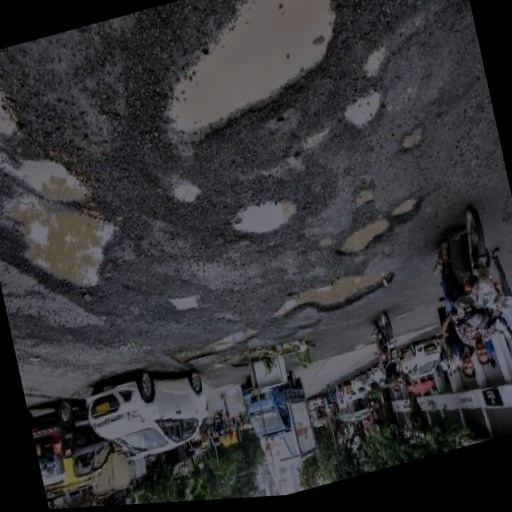pothole: (142, 0, 356, 156), (0, 138, 128, 317), (265, 261, 398, 332), (227, 190, 301, 249), (172, 324, 262, 369), (0, 47, 26, 165), (332, 216, 394, 264), (341, 88, 388, 136), (357, 45, 394, 83), (387, 193, 423, 228), (396, 122, 430, 158), (166, 290, 201, 320), (168, 181, 203, 210), (350, 188, 377, 211)
